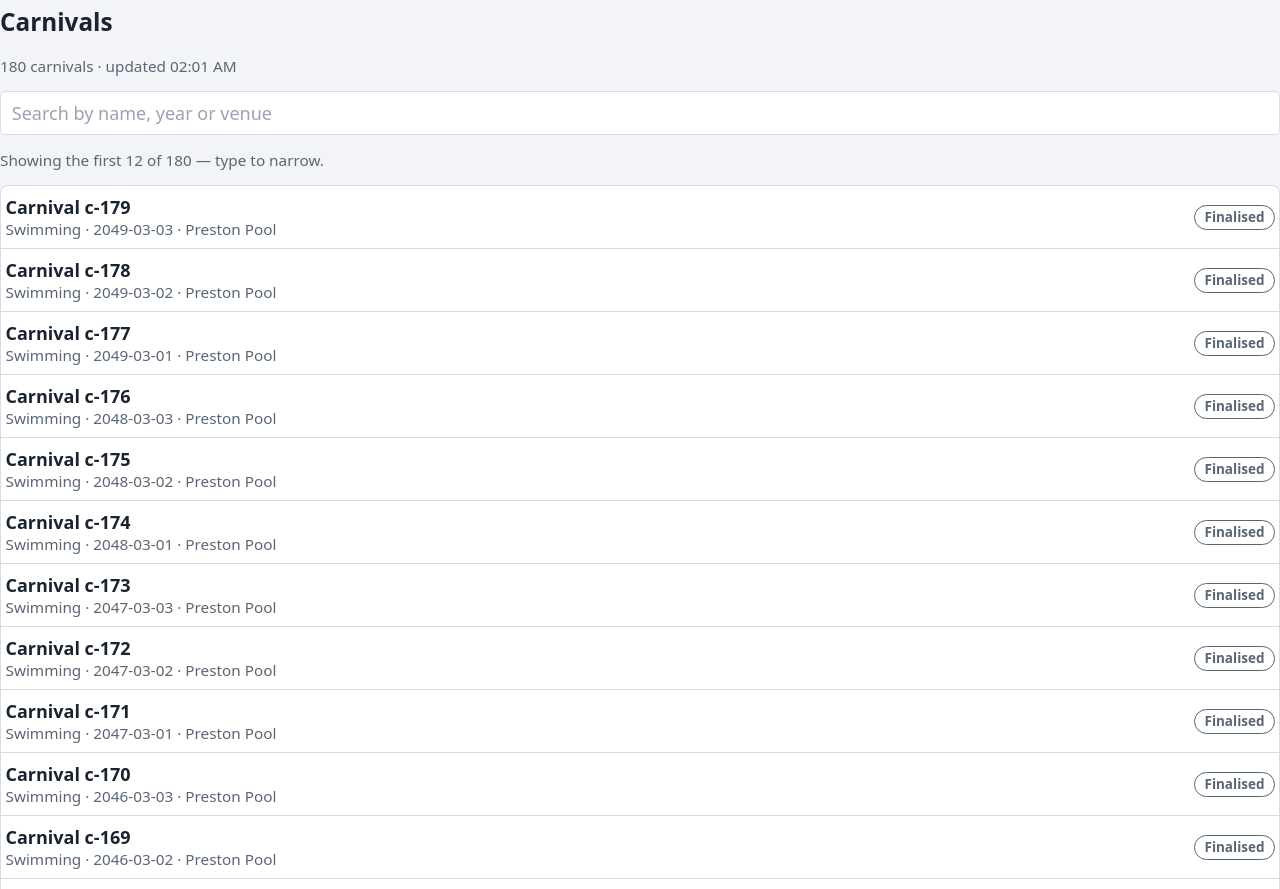
Scenario: CarnivalsScreen › says so when nothing matches, rather than showing the unfiltered list
Type "zzz" into the search field named "Search carnivals" at (640, 113), box [0,91,1279,135]
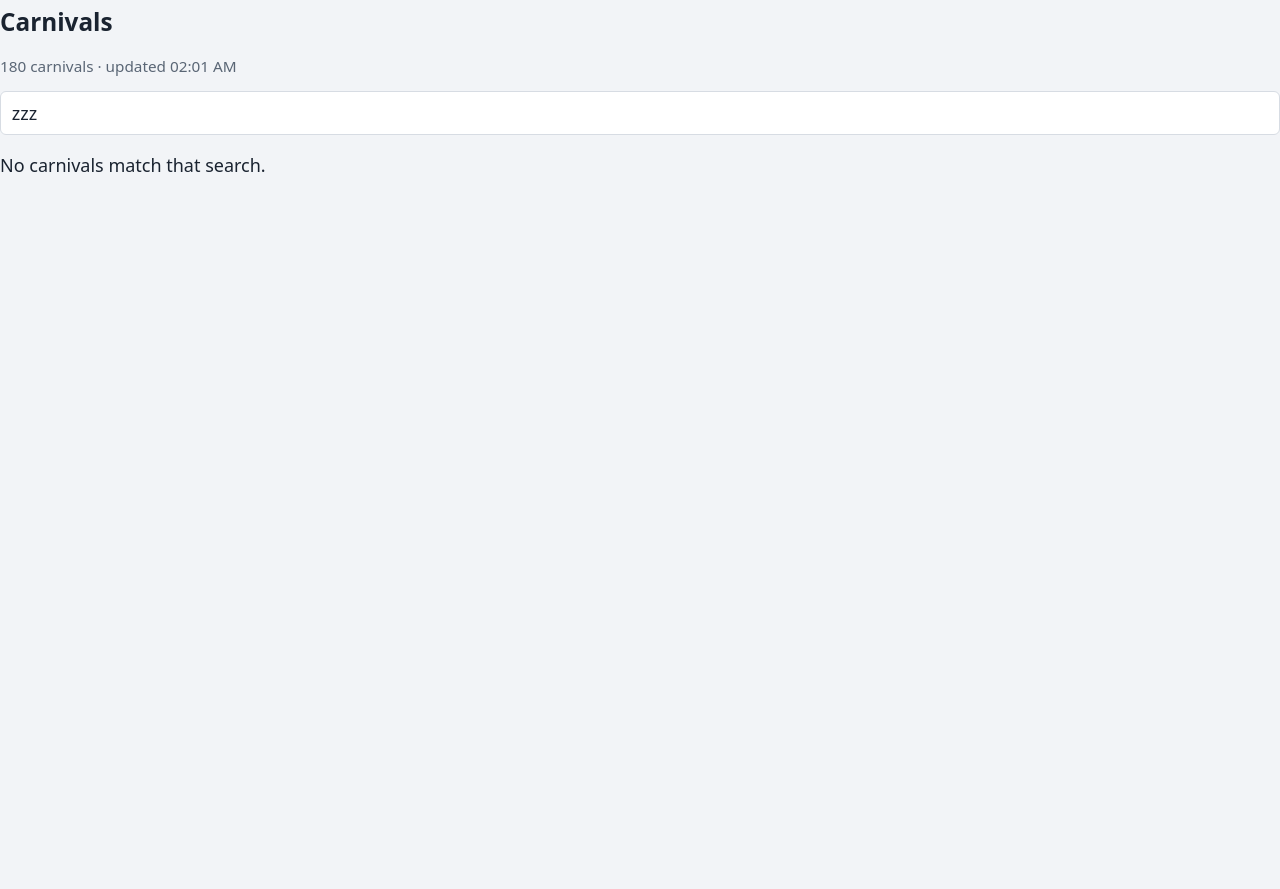
Expected: the text "No carnivals match that search." is shown, [0,153,266,177]
